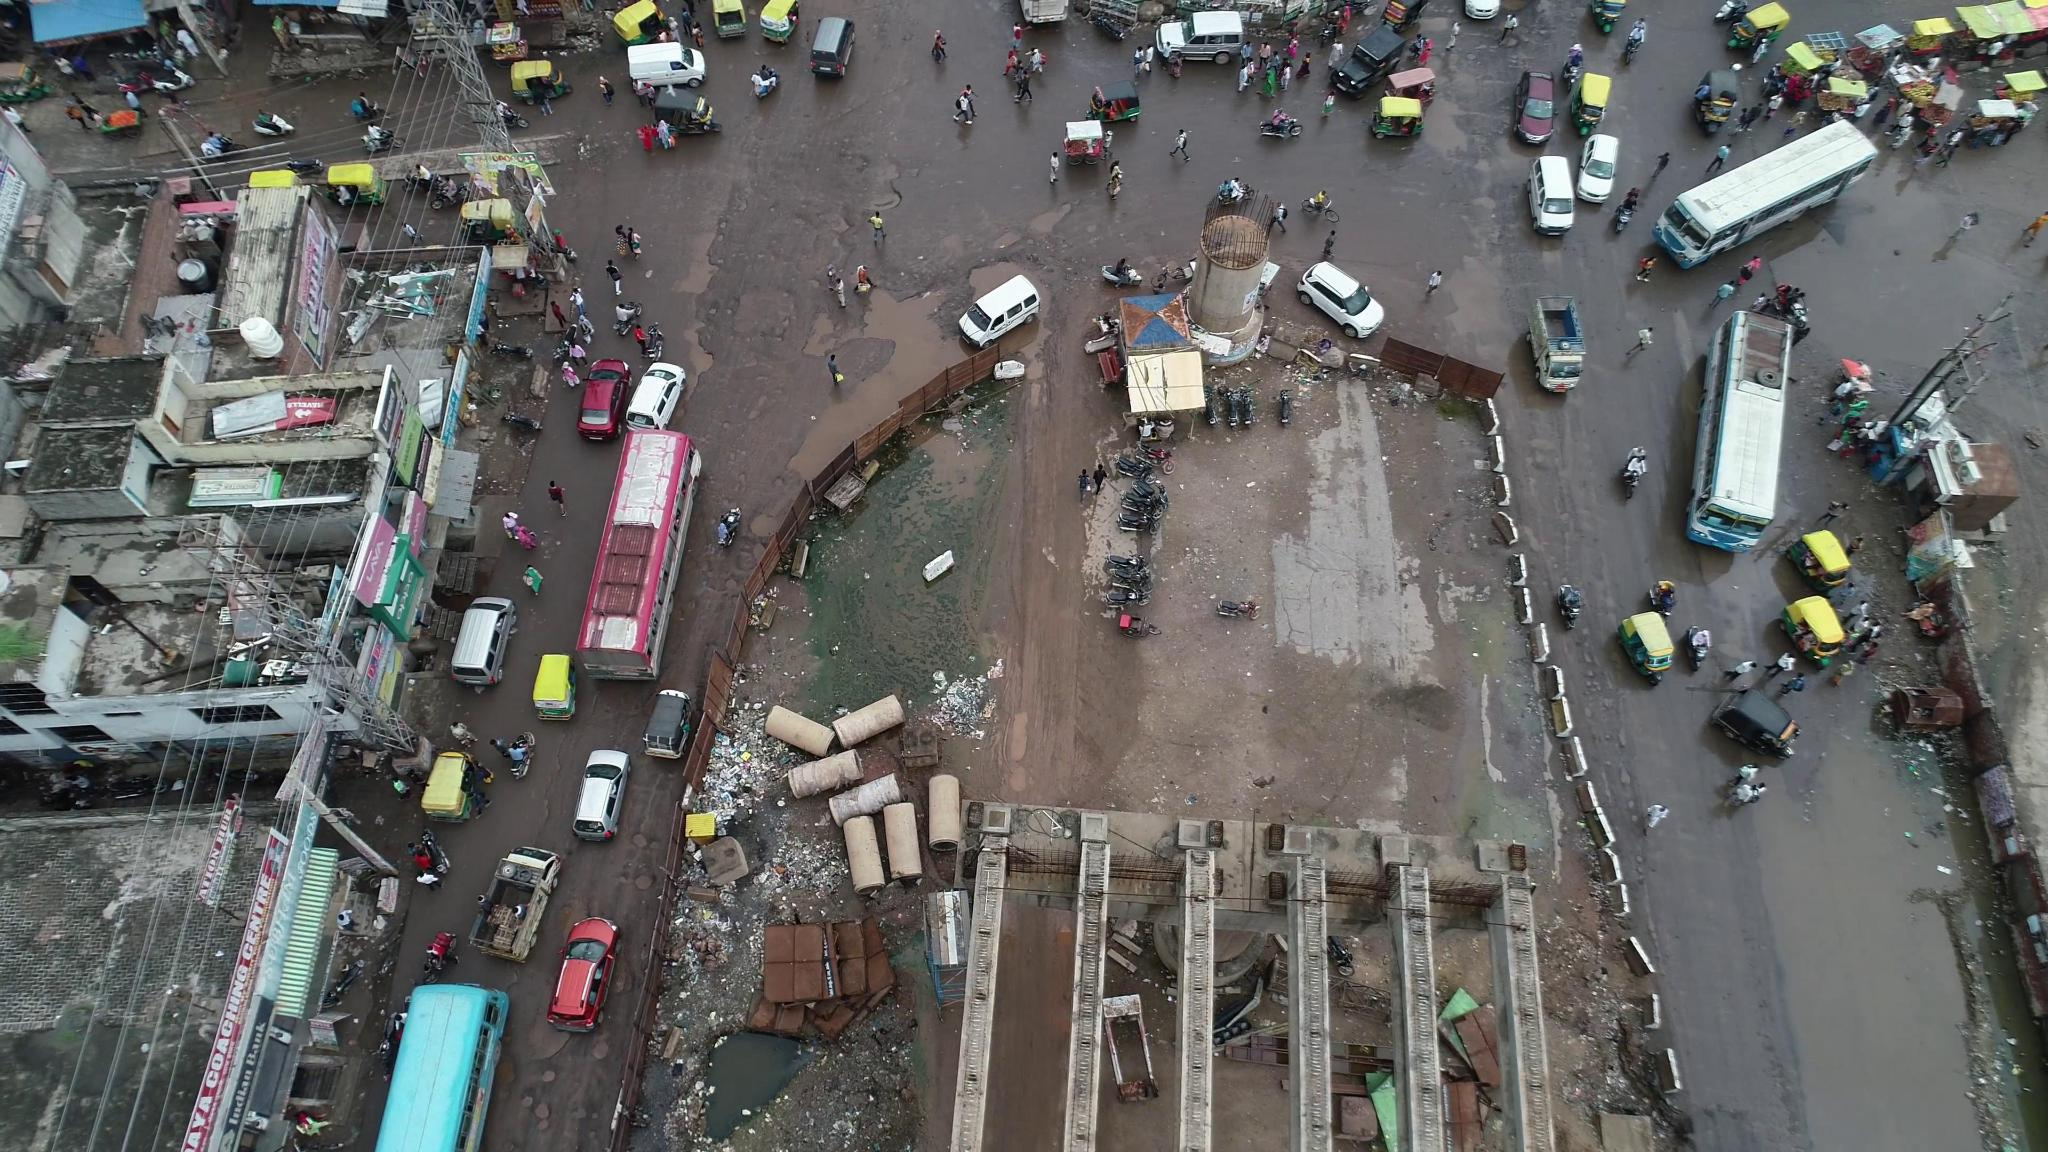Potholes: (708, 279, 805, 335), (712, 414, 750, 488), (705, 210, 738, 255)
